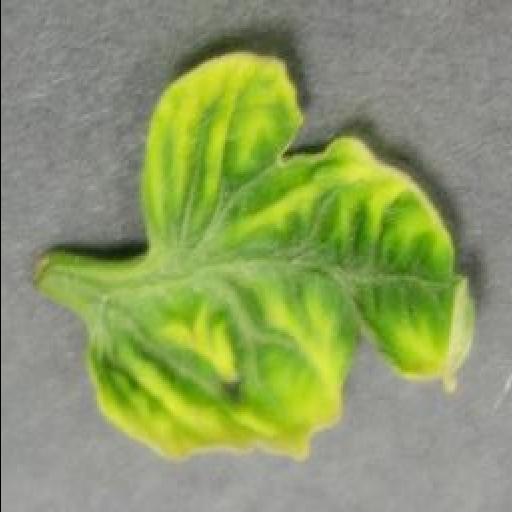disease_tomato: (82, 50, 478, 464)
